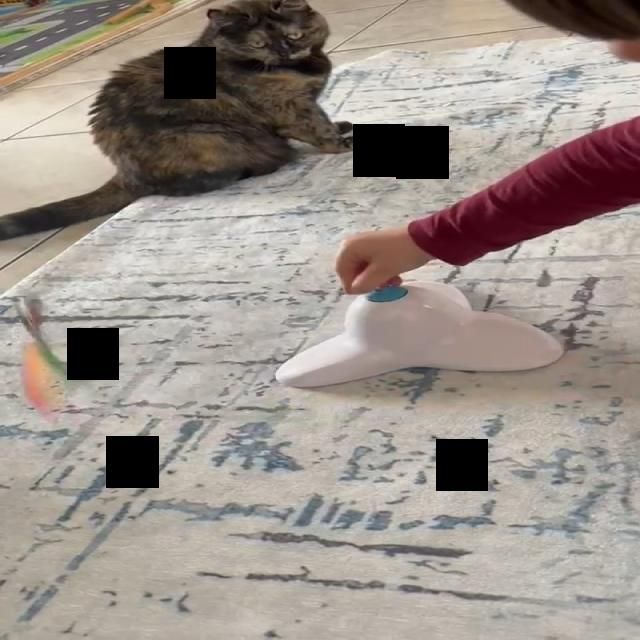authorized: (0, 0, 367, 242)
